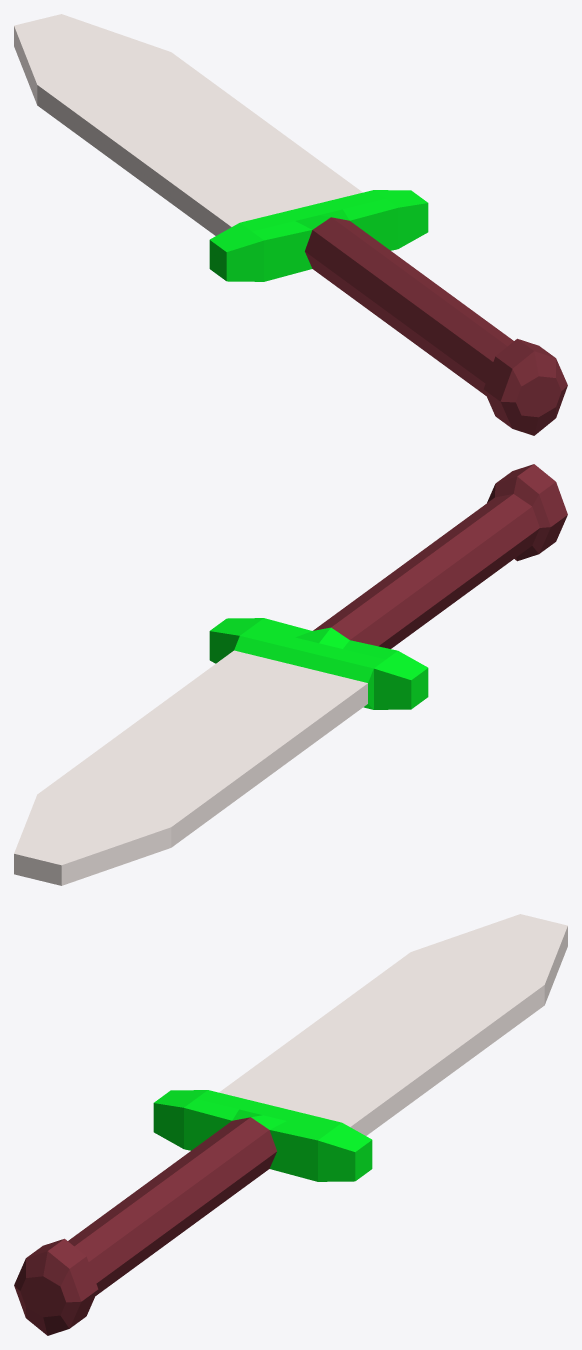
Rendered from sword.glb.
3 renders of one model, top to bottom at view 1: azimuth 30°, elevation 25°; view 2: azimuth 150°, elevation 25°; view 3: azimuth 330°, elevation 25°, orthographic.
Parts seen in each view (by area): view 1: Sword; view 2: Sword; view 3: Sword.
Part boxes in pixels (box(x1,y1,x2,y2)): Sword: box(14, 14, 567, 435); Sword: box(14, 464, 567, 885); Sword: box(14, 914, 567, 1335).
Size of the model in its own units: 3.01 by 1.21 by 12.95.
Materials: 1 (1 with a texture image).
